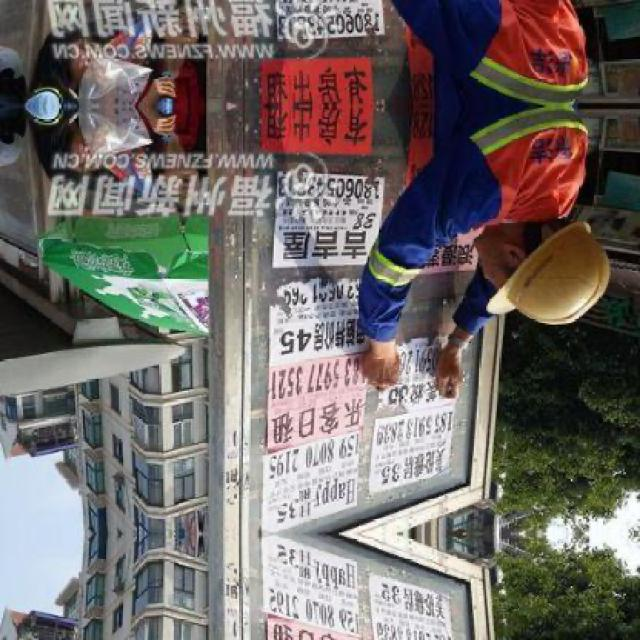con casco: (437, 226, 595, 363)
